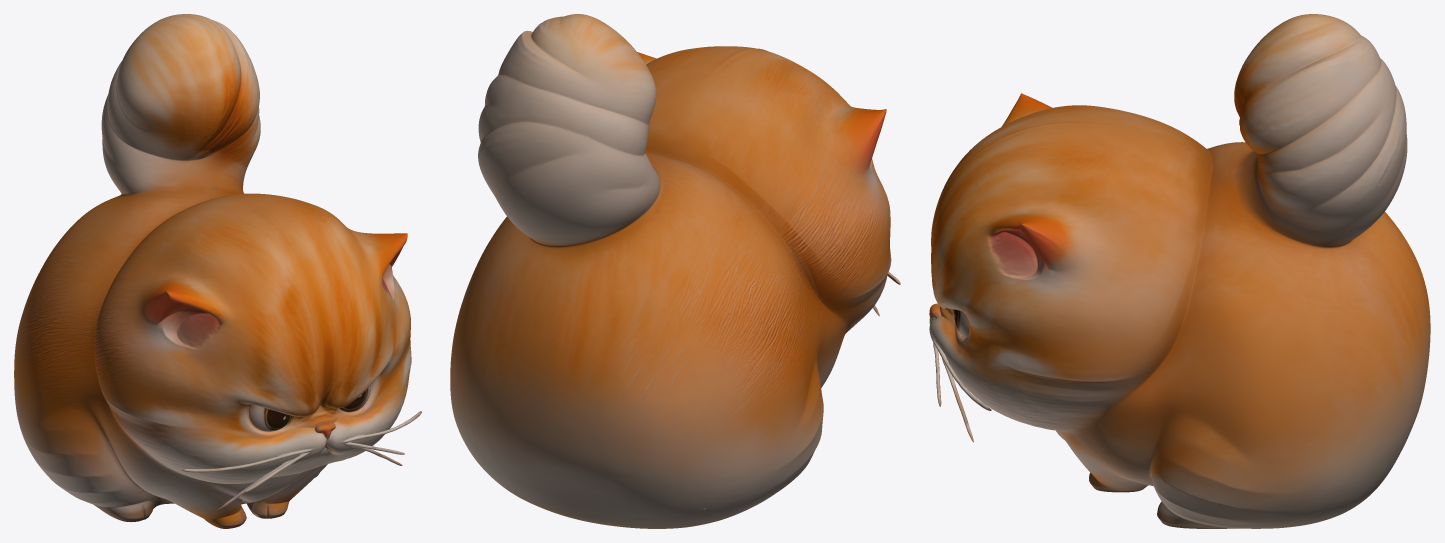
Rendered from kedi.glb.
The picture shows the model from 3 angles, left to right: view 1: azimuth 30°, elevation 25°; view 2: azimuth 150°, elevation 25°; view 3: azimuth 270°, elevation 25°; orthographic projection. The views are drawn at different scales.
Visible parts, largest first — view 1: texture_pbr_v128; view 2: texture_pbr_v128; view 3: texture_pbr_v128.
Part boxes in pixels (<box>): texture_pbr_v128: <box>14,14,421,528</box>; texture_pbr_v128: <box>450,14,900,528</box>; texture_pbr_v128: <box>929,14,1430,528</box>.
Bounding box in the file's own units: 0.7002 × 0.9657 × 0.9317.
1 material, 1 textured.
